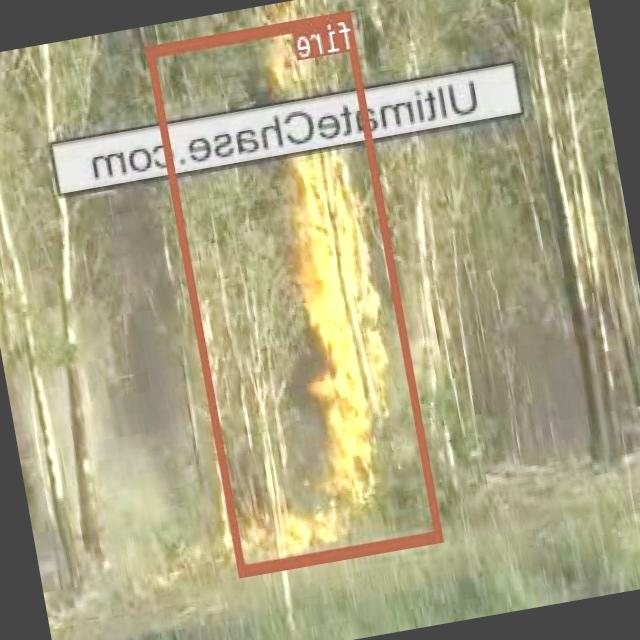fire: (148, 9, 444, 574)
